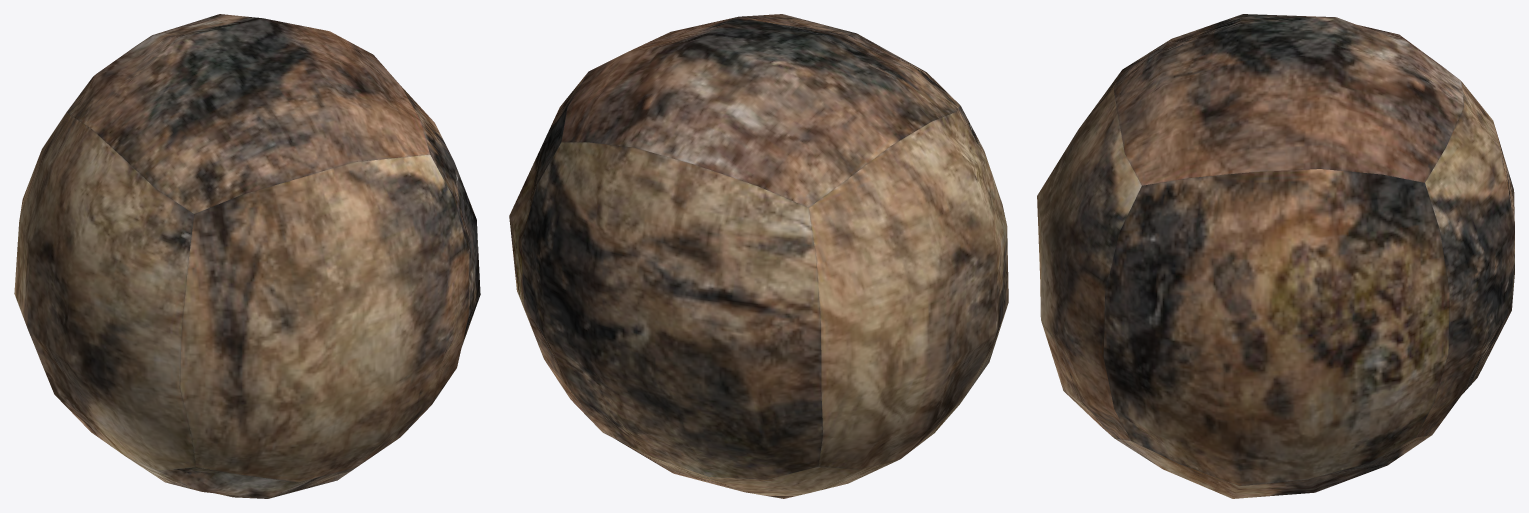
File: rock_d_03.obj
The picture shows the model from 3 angles, left to right: view 1: azimuth 30°, elevation 25°; view 2: azimuth 150°, elevation 25°; view 3: azimuth 270°, elevation 25°; orthographic projection. The views are drawn at different scales.
Visible parts, largest first — view 1: rockLP001; view 2: rockLP001; view 3: rockLP001.
Part boxes in pixels (x1,y1,x2,y2): rockLP001: (14, 14, 480, 498); rockLP001: (509, 14, 1008, 498); rockLP001: (1037, 14, 1514, 498).
Size of the model in its own units: 3.85 by 3.92 by 3.85.
